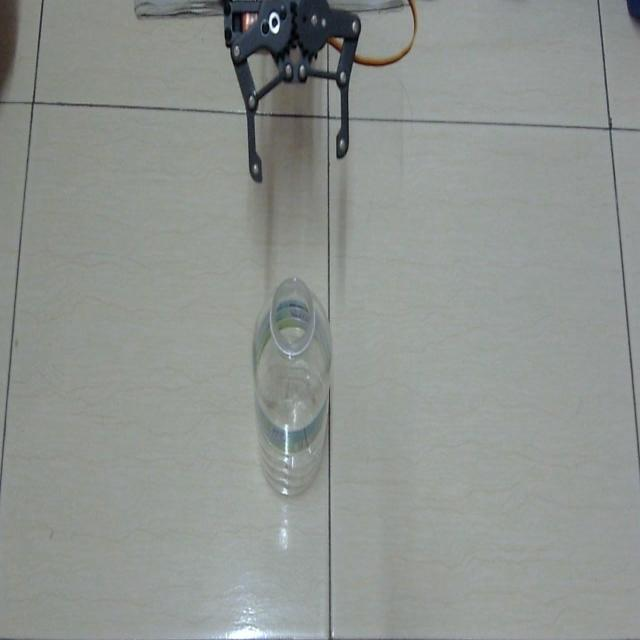plastic_standrotation: (235, 263, 344, 524)
